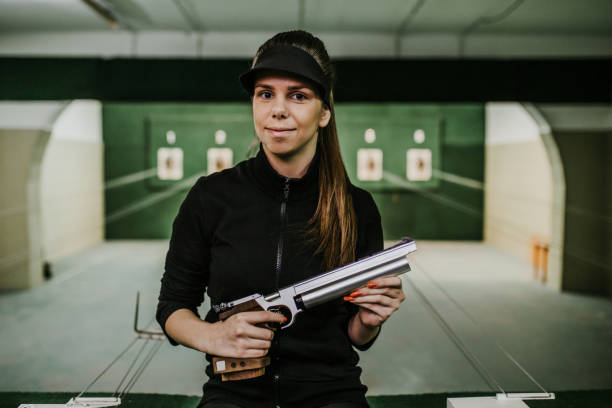gun: (215, 235, 418, 379)
